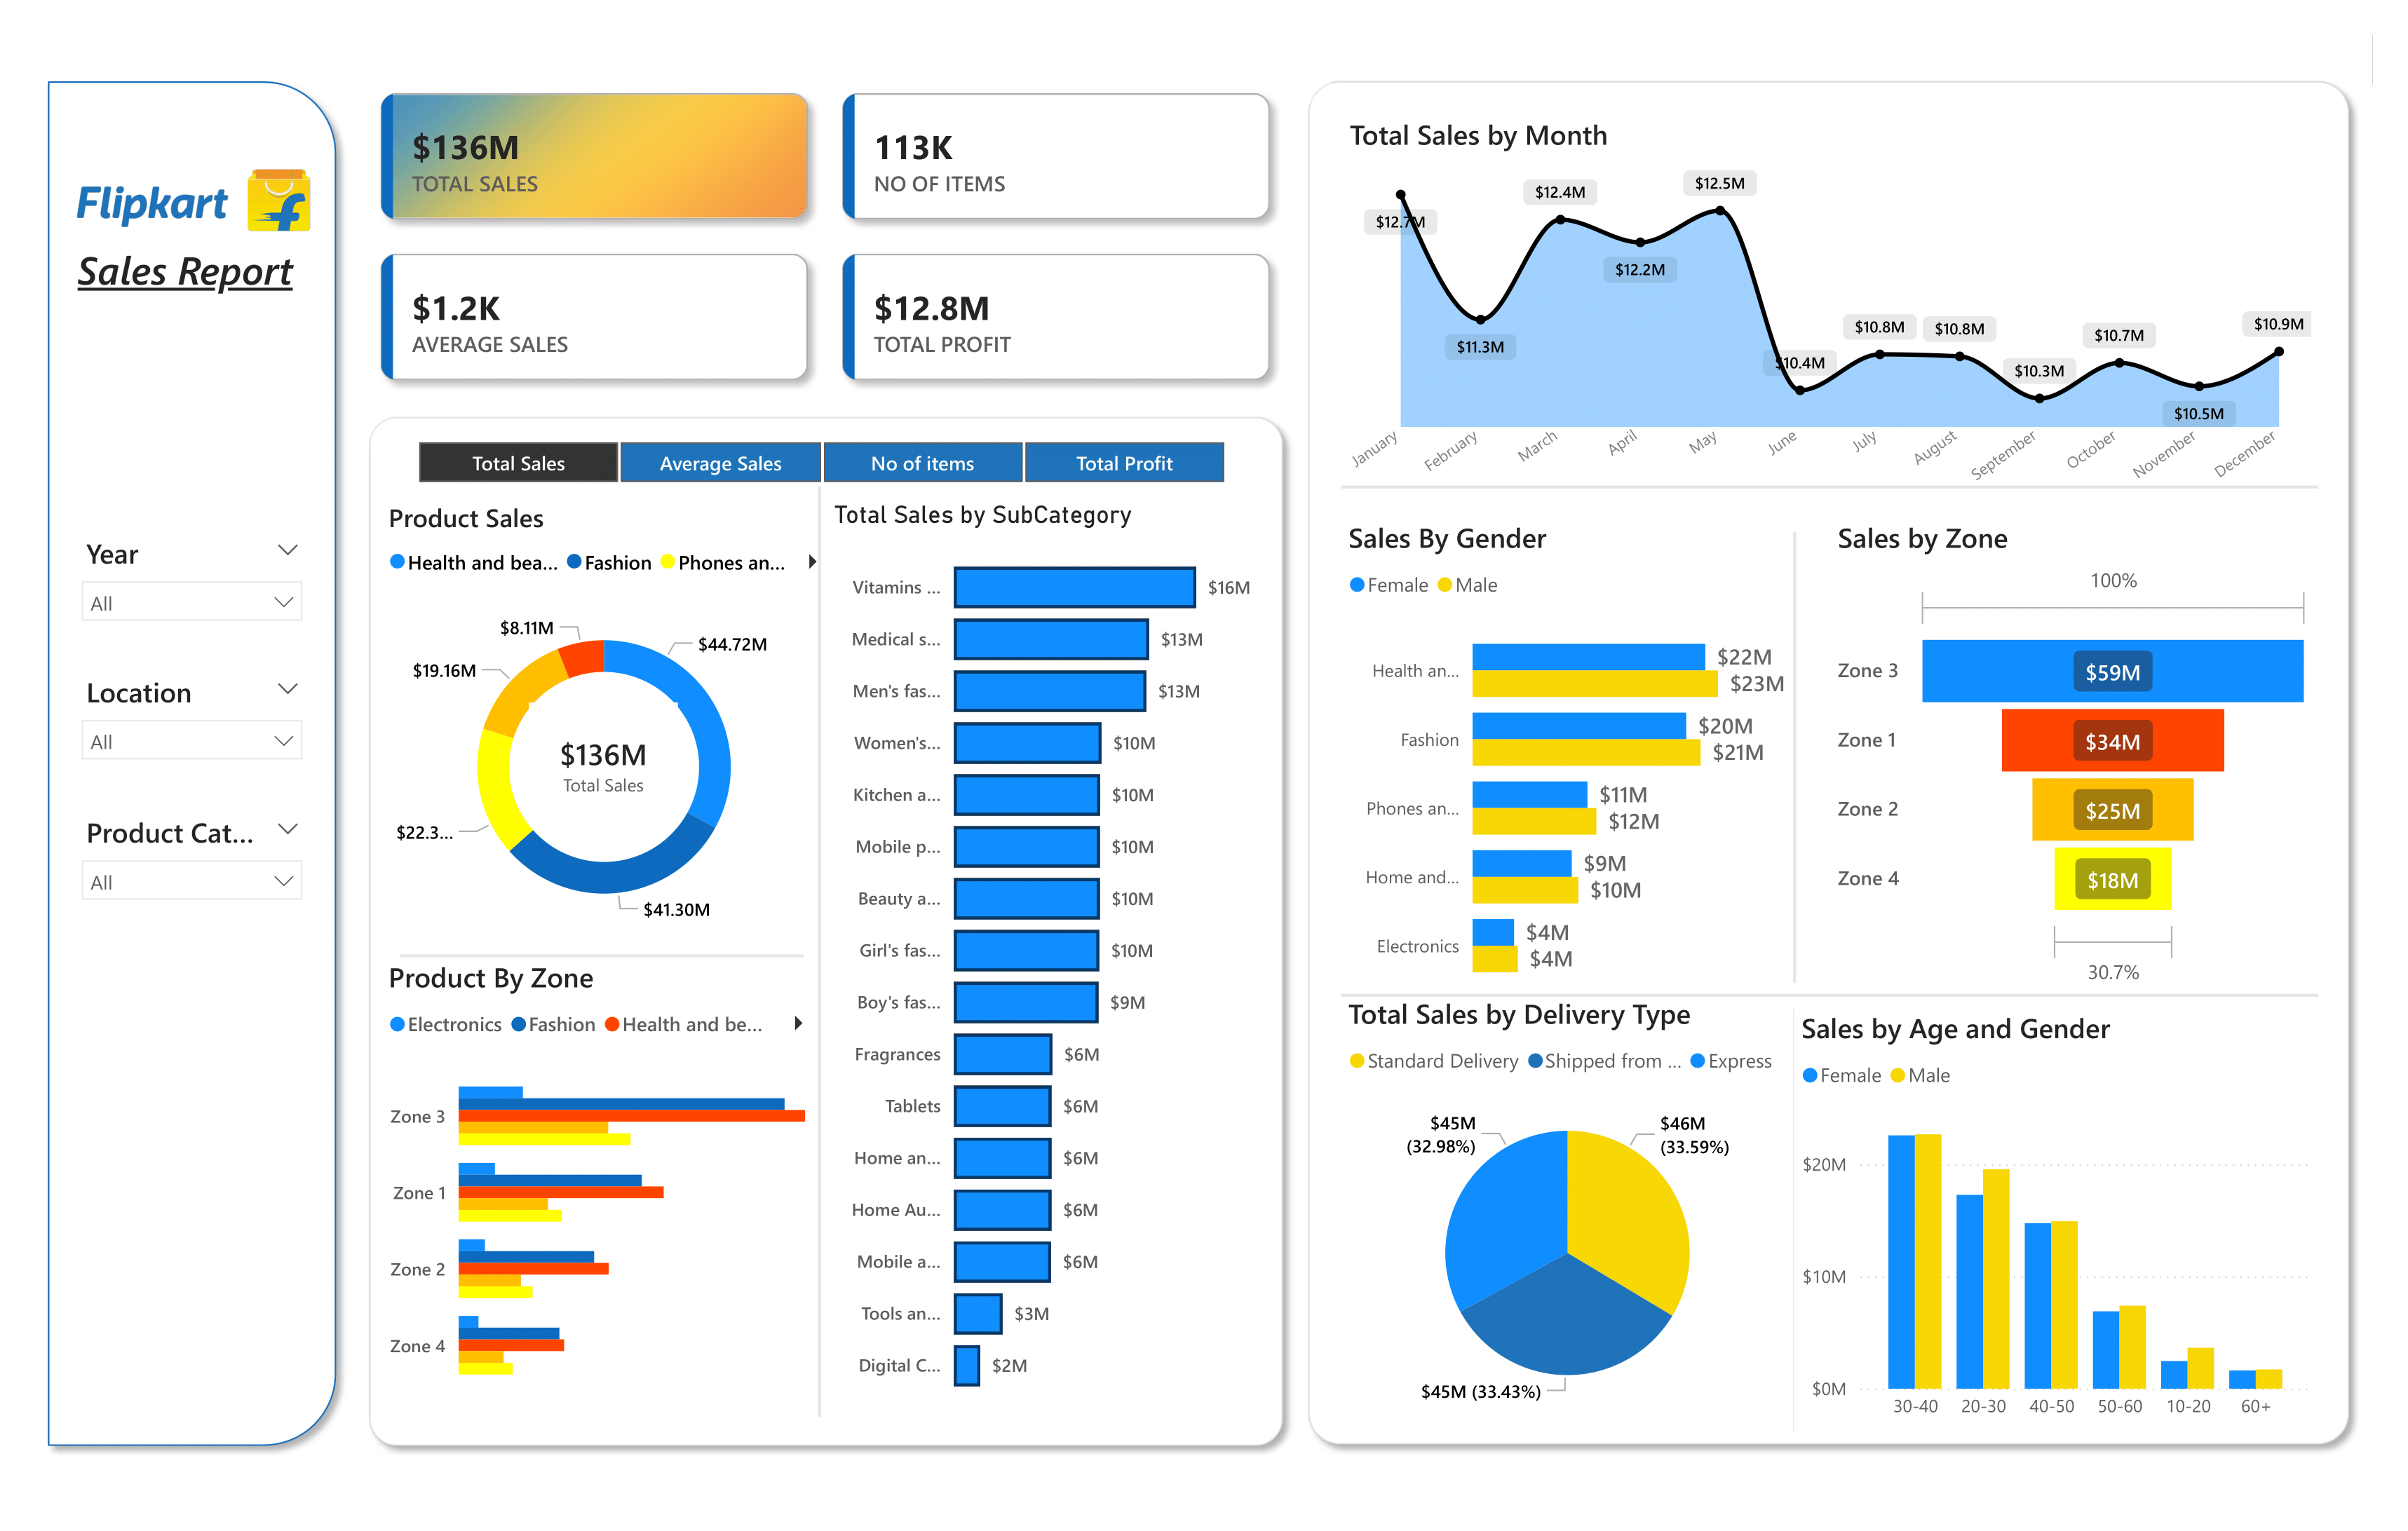

What the dashboard file says about the page in this screenshot:
{"tool":"powerbi","page":{"name":"Page 1","canvas":[1600,1000],"ordinal":0},"visuals":[{"type":"shape","box":[220,253.3,643.3,721.7],"z":0},{"type":"shape","box":[0,23.3,215,951.7],"z":1000},{"type":"cardVisual","fields":{"Data":["Data.Total Sales","Data.Average Sales","Data.No of items","Data.Total Profit"]},"box":[220,23.3,643.3,230],"z":2000},{"type":"slicer","fields":{"Values":["Metrics.Metrics"]},"box":[236.7,271.7,601.7,36.7],"z":3000},{"type":"donutChart","title":"Product Sales","fields":{"Y":["Data.Total Sales"],"Category":["Data.Product Category"]},"box":[236.7,318.3,305,313.3],"z":4000},{"type":"cardVisual","fields":{"Data":["Data.Total Sales"]},"box":[333.3,451.7,111.7,95],"z":5000},{"type":"shape","box":[862.9,22.9,730,951.4],"z":6000},{"type":"lineChart","fields":{"Y":["Data.Total Sales"],"Category":["Data.OrderDate.Variation.Date Hierarchy.Month"]},"box":[895,55,668.3,263.3],"z":7000},{"type":"image","box":[0,23.3,216.7,178.3],"z":8000},{"type":"barChart","fields":{"Y":["Data.Total Sales"],"Category":["Data.SubCategory"]},"box":[541.7,318.3,296.7,626.7],"z":9000},{"type":"clusteredBarChart","title":"Product By Zone","fields":{"Y":["Data.Total Sales"],"Category":["Data.Zone"],"Series":["Data.Product Category"]},"box":[236.7,631.7,305,313.3],"z":10000},{"type":"slicer","fields":{"Values":["Data.OrderDate.Variation.Date Hierarchy.Year"]},"box":[21.7,336.7,171.7,86.7],"z":11000},{"type":"clusteredBarChart","title":"Sales By Gender","fields":{"Y":["Data.Total Sales"],"Category":["Data.Product Category"],"Series":["Data.Customer Gender"]},"box":[894.3,331.4,310,335.7],"z":12000},{"type":"funnel","title":"Sales by Zone","fields":{"Y":["Data.Total Sales"],"Category":["Data.Zone"]},"box":[1228.6,331.4,334.3,325.7],"z":13000},{"type":"shape","box":[250,604.3,275.7,52.9],"z":14000},{"type":"shape","box":[481.4,308.6,111.4,637.1],"z":15000},{"type":"shape","box":[894.3,282.9,668.6,52.9],"z":16000},{"type":"shape","box":[1148.6,340,111.4,308.6],"z":17000},{"type":"donutChart","fields":{"Y":["Data.Total Sales"],"Category":["Data.Delivery Type"]},"box":[894.3,657.1,310,300],"z":18000},{"type":"shape","box":[894.3,631.4,668.6,52.9],"z":19000},{"type":"shape","box":[1148.6,667.1,111.4,290],"z":20000},{"type":"clusteredColumnChart","title":"Sales by Age and Gender","fields":{"Y":["Data.Total Sales"],"Category":["Data.Age Group"],"Series":["Data.Customer Gender"]},"box":[1204.3,667.1,358.6,290],"z":21000},{"type":"slicer","fields":{"Values":["Data.Location"]},"box":[21.7,431.7,171.7,86.7],"z":22000},{"type":"slicer","fields":{"Values":["Data.Product Category"]},"box":[21.7,528.3,171.7,86.7],"z":23000},{"type":"textbox","box":[24,137,163.3,56.7],"z":24000}]}

Visuals, with their boxes in screenshot pixels (x1, y1, x2, y2):
shape: rect(356, 405, 1297, 1459)
shape: rect(35, 69, 349, 1459)
cardVisual - Data.Total Sales x Data.Average Sales: rect(356, 69, 1297, 405)
slicer - Metrics.Metrics: rect(381, 432, 1260, 486)
"Product Sales" donutChart: rect(381, 500, 827, 958)
cardVisual - Data.Total Sales: rect(522, 695, 685, 833)
shape: rect(1296, 69, 2362, 1458)
lineChart - Data.Total Sales x Data.OrderDate.Variation.Date Hierarchy.Month: rect(1343, 116, 2320, 500)
image: rect(35, 69, 352, 329)
barChart - Data.Total Sales x Data.SubCategory: rect(827, 500, 1260, 1415)
"Product By Zone" clusteredBarChart: rect(381, 958, 827, 1415)
slicer - Data.OrderDate.Variation.Date Hierarchy.Year: rect(67, 527, 318, 653)
"Sales By Gender" clusteredBarChart: rect(1341, 519, 1794, 1009)
"Sales by Zone" funnel: rect(1830, 519, 2319, 995)
shape: rect(400, 918, 803, 995)
shape: rect(738, 486, 901, 1417)
shape: rect(1341, 449, 2319, 526)
shape: rect(1713, 532, 1876, 983)
donutChart - Data.Total Sales x Data.Delivery Type: rect(1341, 995, 1794, 1434)
shape: rect(1341, 958, 2319, 1035)
shape: rect(1713, 1009, 1876, 1434)
"Sales by Age and Gender" clusteredColumnChart: rect(1794, 1009, 2319, 1434)
slicer - Data.Location: rect(67, 666, 318, 792)
slicer - Data.Product Category: rect(67, 807, 318, 934)
textbox: rect(70, 236, 309, 318)
